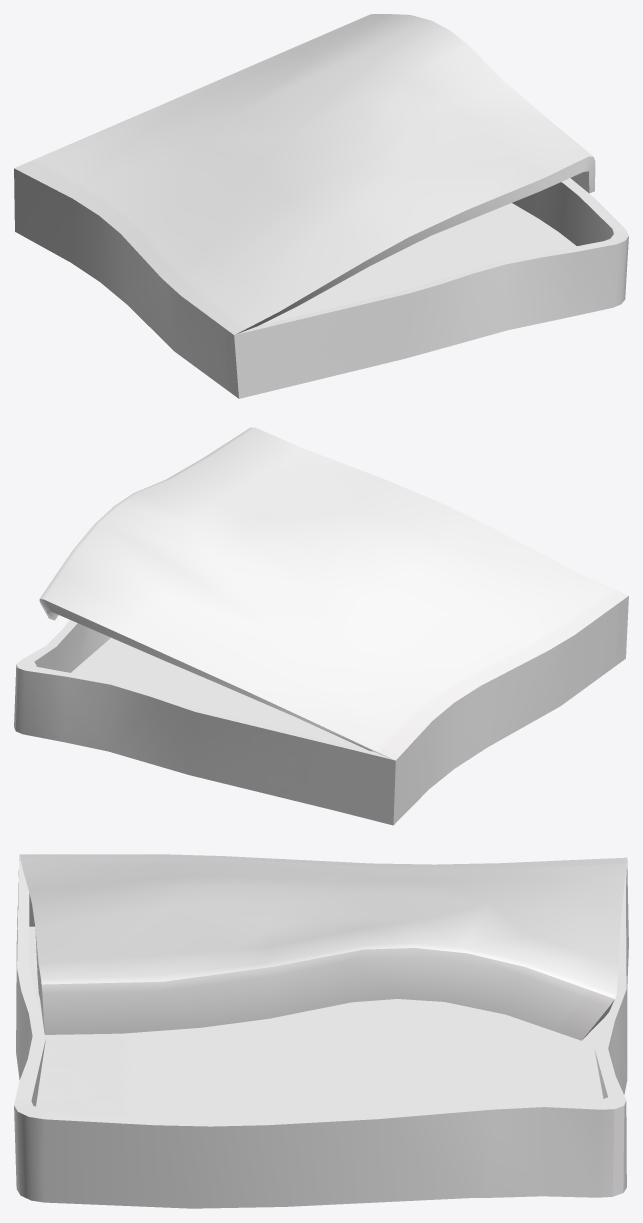
The model's file is Pizzabox.fbx.
3 views of the same model, one above another, from view 1: azimuth 30°, elevation 25°; view 2: azimuth 150°, elevation 25°; view 3: azimuth 270°, elevation 25° (orthographic). The views are drawn at different scales.
Visible parts, largest first — view 1: PizzaBox; view 2: PizzaBox; view 3: PizzaBox.
Boxes of the visible parts, box(x1,y1,x2,y2) form: PizzaBox: box(14, 14, 628, 398); PizzaBox: box(14, 427, 628, 825); PizzaBox: box(14, 854, 628, 1208).
Size of the model in its own units: 46.45 by 18.63 by 44.48.
Materials: 1 (1 with a texture image).
